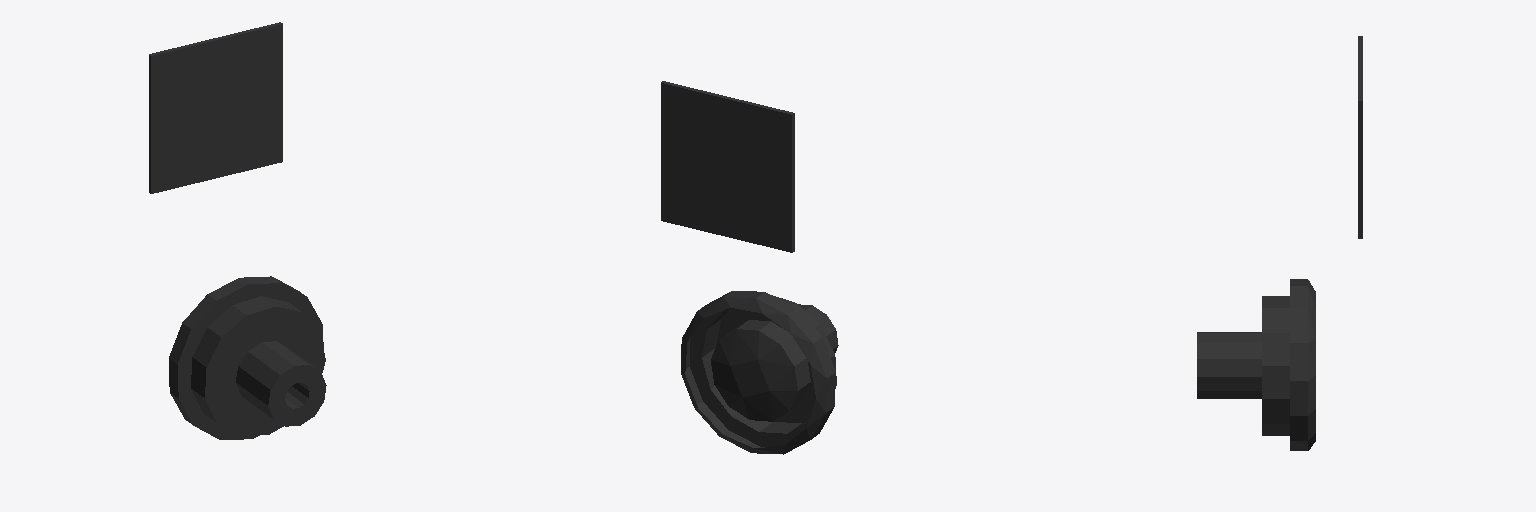
Rendered from Robot_Football_Player_SKS_2501_Head_B0348_Head_Base_06v1_1_mesh_9.obj.
3 renders of one model, left to right at view 1: azimuth 30°, elevation 25°; view 2: azimuth 150°, elevation 25°; view 3: azimuth 270°, elevation 25°, orthographic.
Bounding box in the file's own units: 0.0299 × 0.0733 × 0.0293.